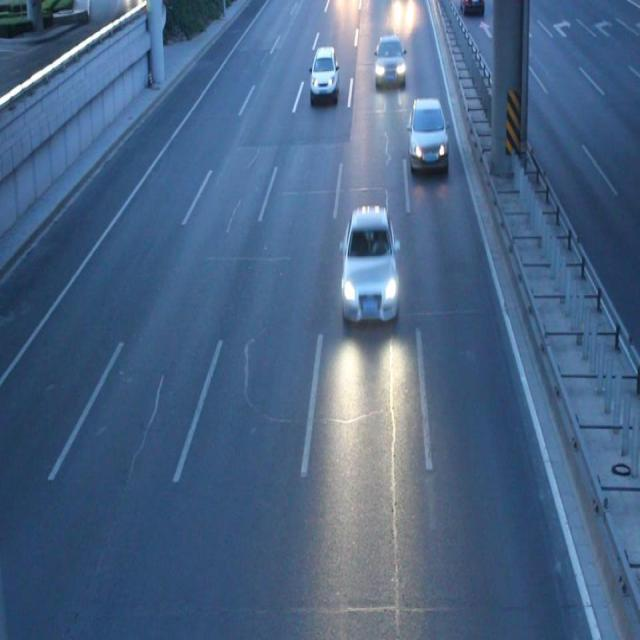car: (339, 206, 400, 322), (406, 97, 448, 174), (374, 36, 406, 86), (308, 47, 338, 100)
